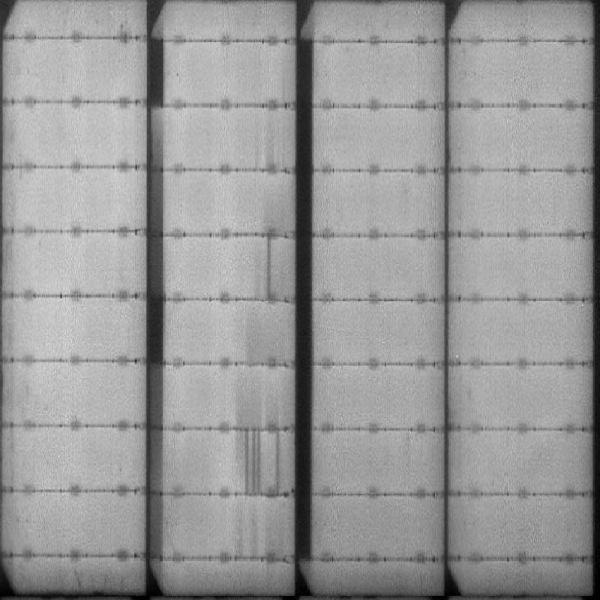black_border: (292, 41, 315, 565), (144, 29, 166, 558)
scratch: (240, 432, 284, 496), (261, 234, 280, 301)
